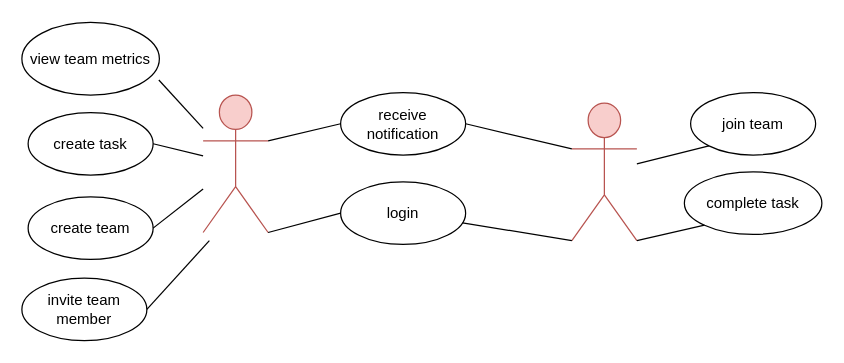
Image size: 844x363. Some labels were removed from this diagram. Here are the shapes that lost their labels. From the top down, the centre of each, then its label:
(235,163): Manager
(604,171): Team Member
